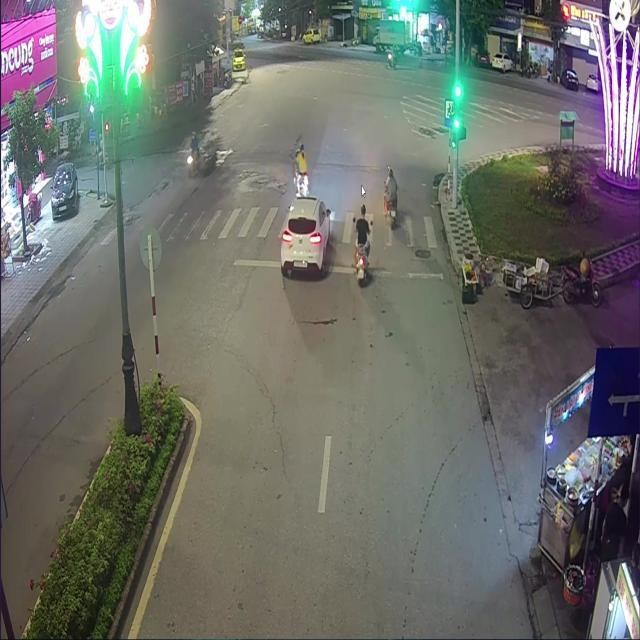car: (279, 194, 330, 275)
green_light: (452, 77, 461, 130)
motobike: (351, 204, 371, 290), (380, 156, 399, 246)
stop_line: (228, 256, 440, 277)
